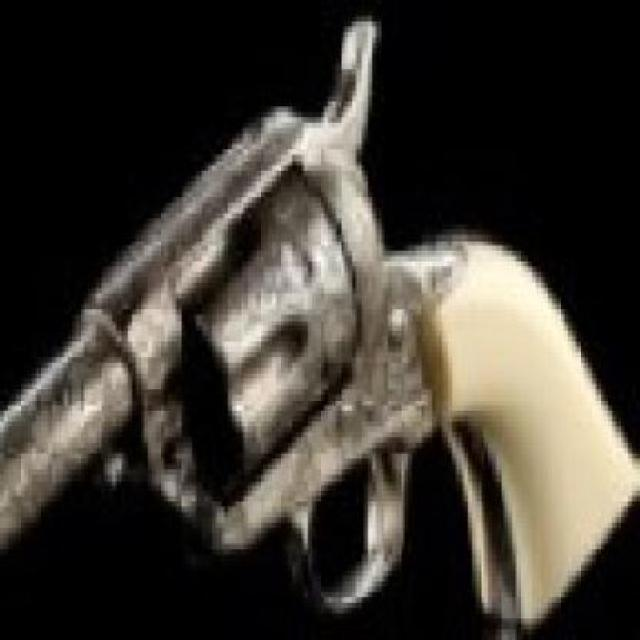gun: (4, 16, 632, 613)
